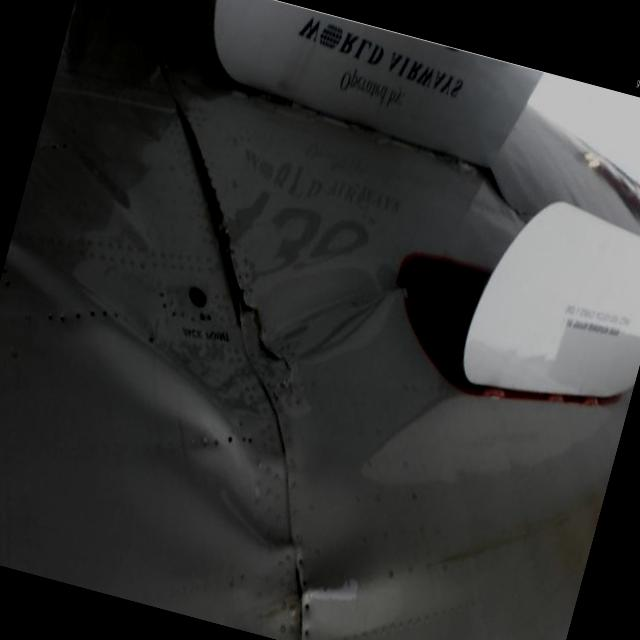crack: (218, 286, 311, 381)
